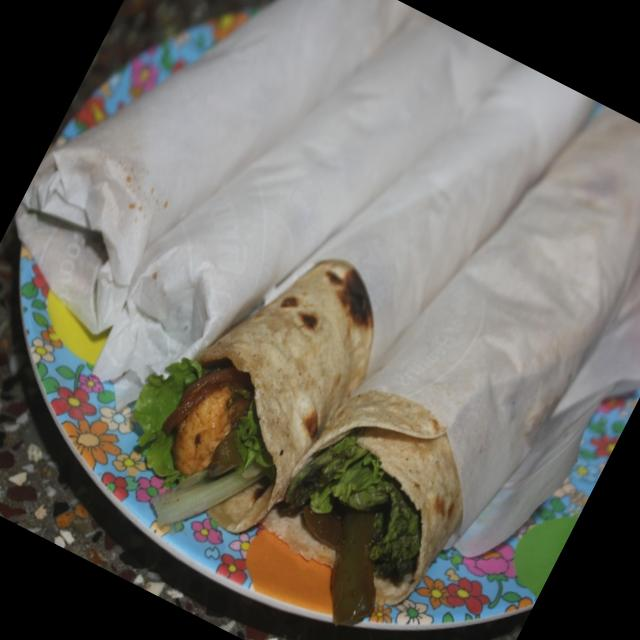roti: (205, 259, 372, 491), (300, 390, 463, 604)
